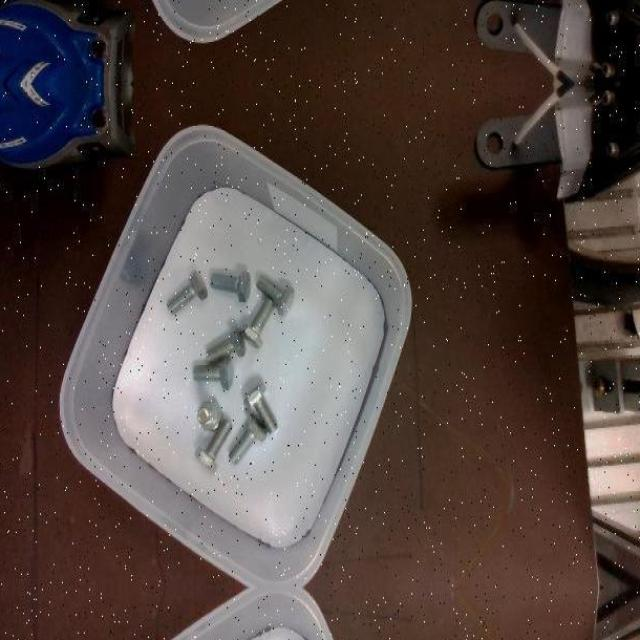screw: (228, 412, 268, 464), (195, 418, 233, 472), (167, 270, 209, 316), (240, 296, 276, 348), (243, 384, 279, 434), (206, 323, 247, 365), (256, 275, 295, 317), (193, 354, 234, 390), (210, 269, 251, 302), (198, 398, 224, 430)
